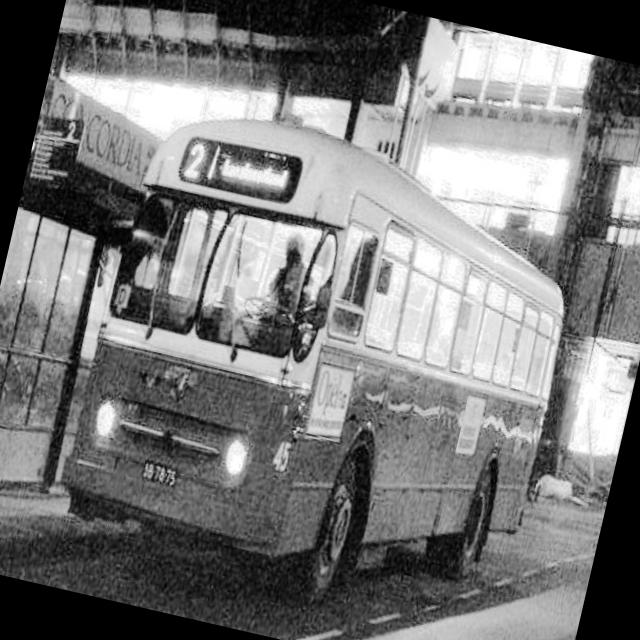Bus: (49, 68, 610, 638)
